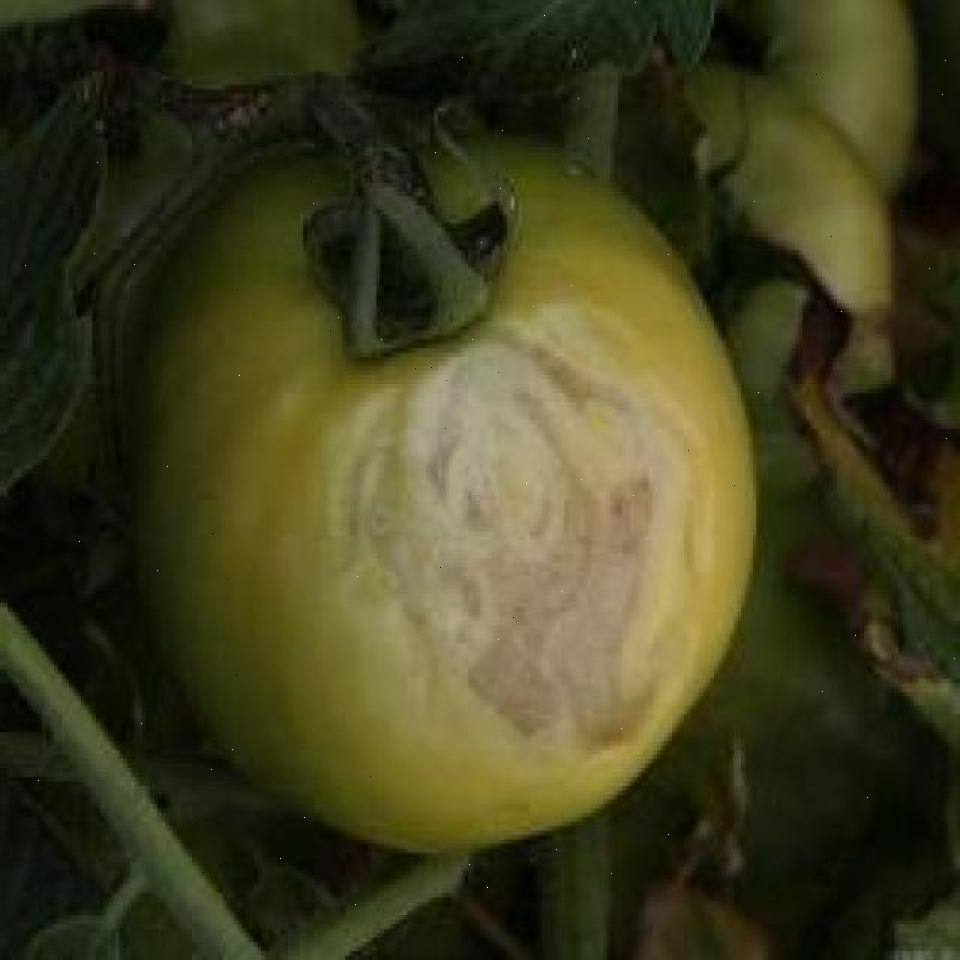Sunscald: (353, 323, 707, 766)
